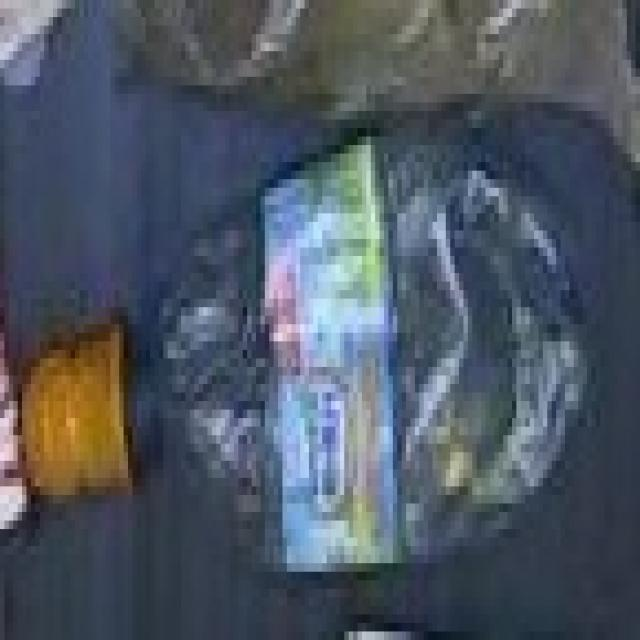litter: (22, 130, 602, 570)
